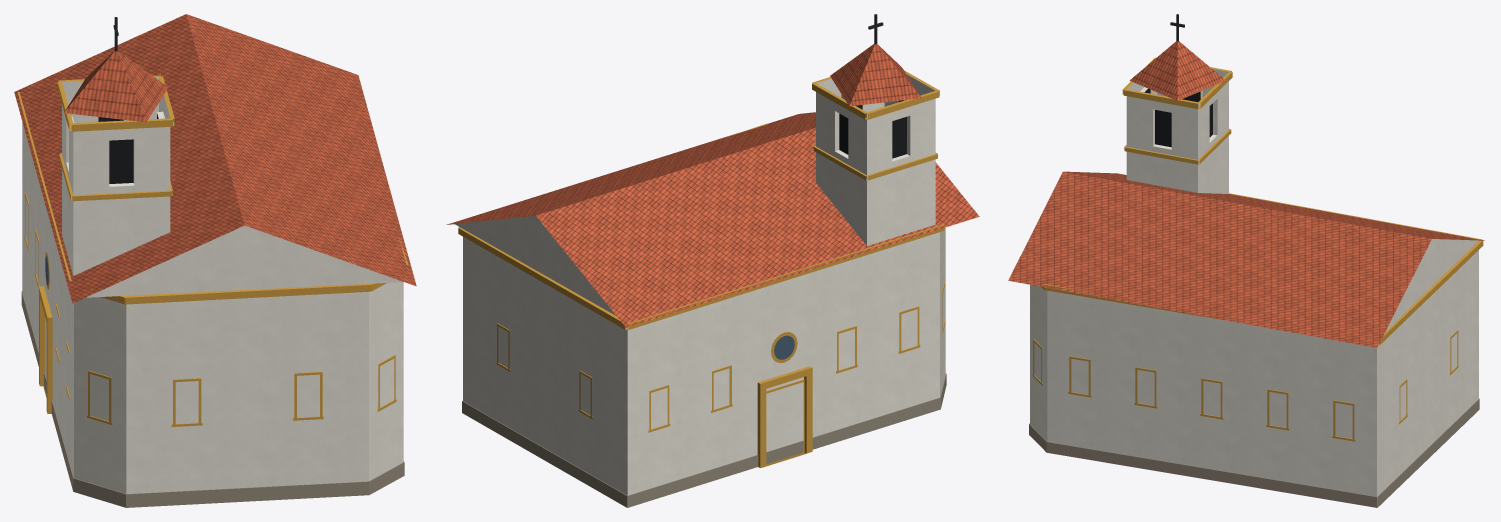
The picture shows the model from 3 angles, left to right: view 1: azimuth 30°, elevation 25°; view 2: azimuth 150°, elevation 25°; view 3: azimuth 270°, elevation 25°; orthographic projection. The views are drawn at different scales.
Parts seen in each view (by area): view 1: B-w1327914034_cubierta, B-w1327914034_lejos, B-w1327914034_muros, B-w1327914034_remates, B-w1327914034_molduras; view 2: B-w1327914034_cubierta, B-w1327914034_lejos, B-w1327914034_muros, B-w1327914034_remates, B-w1327914034_molduras; view 3: B-w1327914034_cubierta, B-w1327914034_muros, B-w1327914034_lejos, B-w1327914034_remates, B-w1327914034_molduras.
Part boxes in pixels (x1,y1,x2,y2): B-w1327914034_cubierta: [14, 14, 416, 303]; B-w1327914034_lejos: [24, 131, 403, 493]; B-w1327914034_muros: [22, 122, 402, 493]; B-w1327914034_remates: [39, 17, 174, 474]; B-w1327914034_molduras: [17, 92, 408, 507]; B-w1327914034_cubierta: [446, 112, 979, 327]; B-w1327914034_lejos: [463, 237, 943, 507]; B-w1327914034_muros: [465, 227, 945, 495]; B-w1327914034_remates: [757, 14, 939, 467]; B-w1327914034_molduras: [458, 123, 946, 507]; B-w1327914034_cubierta: [1008, 171, 1484, 347]; B-w1327914034_muros: [1030, 251, 1477, 496]; B-w1327914034_lejos: [1035, 250, 1478, 506]; B-w1327914034_remates: [1122, 14, 1232, 193]; B-w1327914034_molduras: [1029, 193, 1483, 507].
Size of the model in its own units: 24.38 by 23.42 by 28.24.
Materials: 4 (4 with a texture image).
